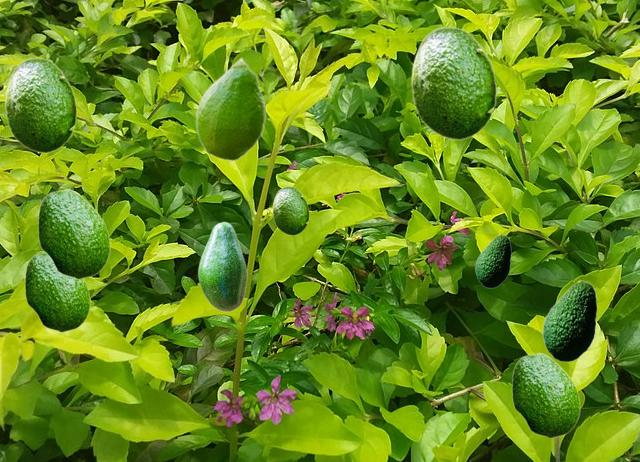avocado: (410, 26, 496, 139), (195, 56, 265, 160), (4, 57, 76, 152), (37, 188, 109, 278), (511, 352, 579, 437), (24, 252, 89, 331), (197, 221, 246, 311), (542, 280, 596, 361), (475, 234, 510, 287), (272, 186, 308, 234)
